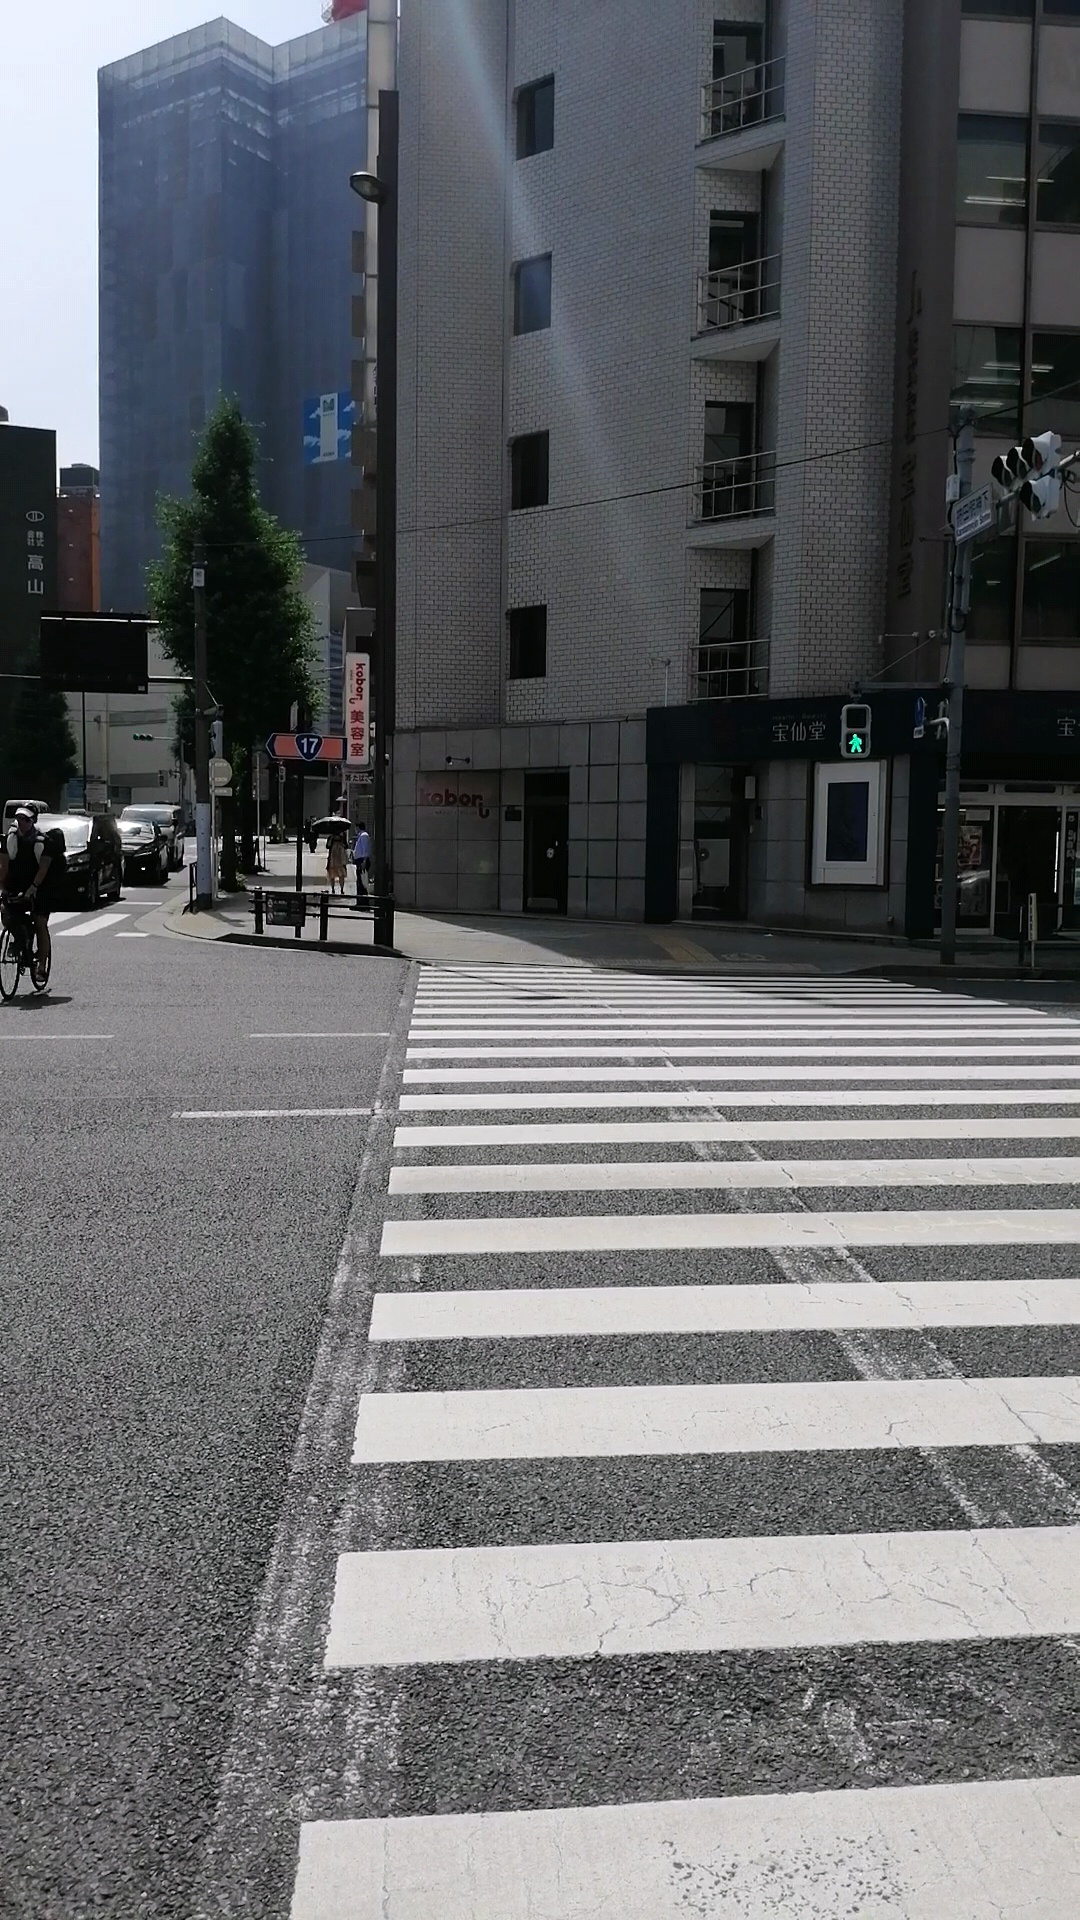green: (840, 703, 872, 758)
